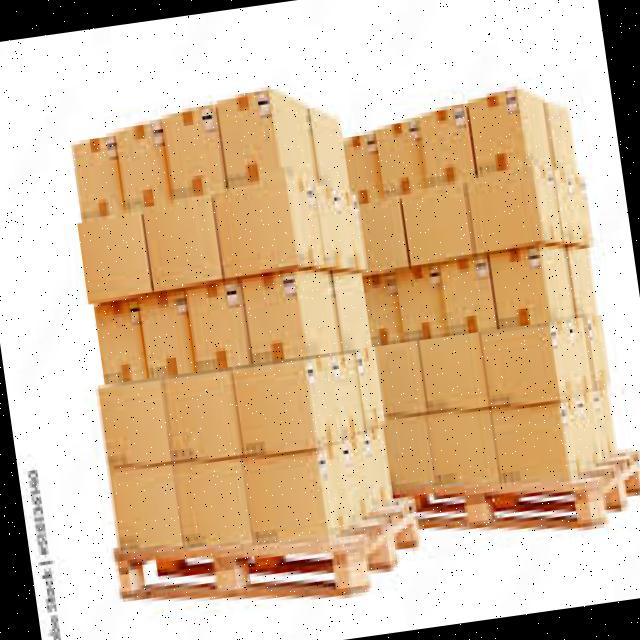Wooden-Pallets: (104, 529, 385, 604), (384, 475, 633, 541)
